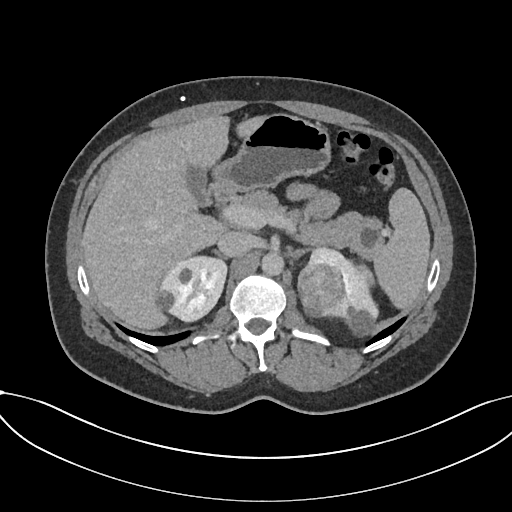Lesion: (291, 263, 349, 325), (151, 283, 177, 318)
